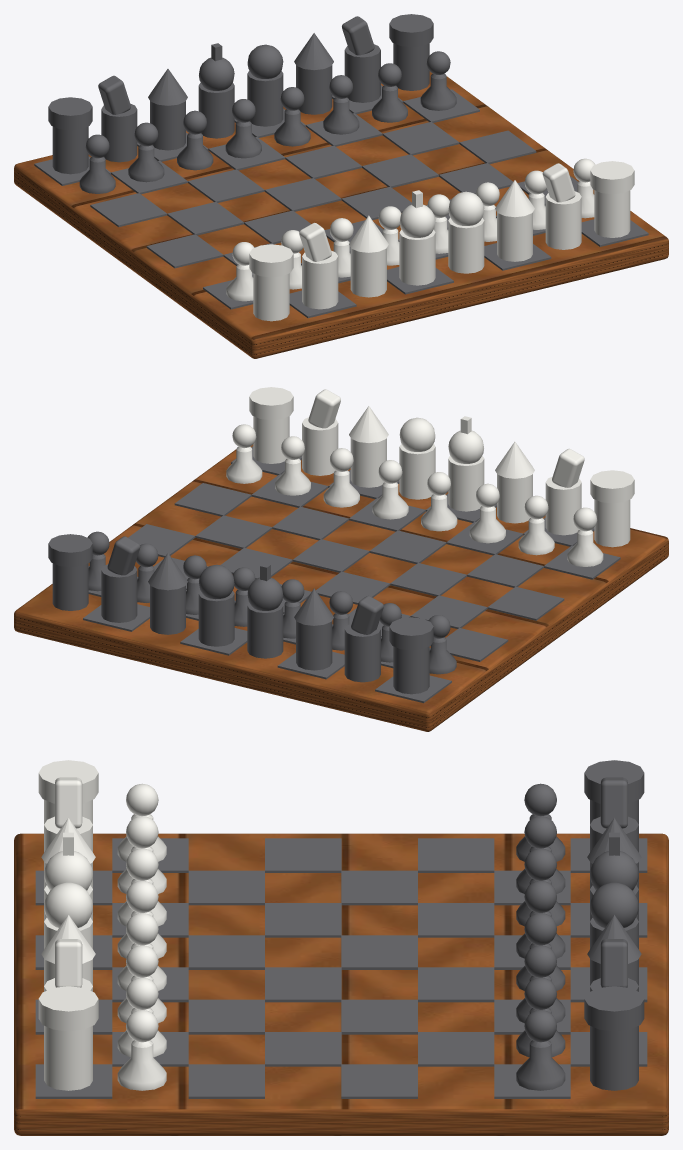
File: prison-complex-builder-tiny-chess-set-194d7033__25704.glb
The picture shows the model from 3 angles, top to bottom: view 1: azimuth 30°, elevation 25°; view 2: azimuth 150°, elevation 25°; view 3: azimuth 270°, elevation 25°; orthographic projection. The views are drawn at different scales.
Visible parts, largest first — view 1: tiny-chess-set; view 2: tiny-chess-set; view 3: tiny-chess-set.
Part boxes in pixels (box(x1,y1,x2,y2)): tiny-chess-set: box(14, 14, 668, 358); tiny-chess-set: box(14, 387, 668, 731); tiny-chess-set: box(14, 760, 668, 1135).
Size of the model in its own units: 0.24 by 0.06 by 0.24.
3 materials, 1 textured.
